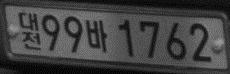1: (116, 19, 137, 57)
2: (189, 23, 211, 62)
6: (166, 21, 187, 60)
7: (139, 20, 159, 58)
9: (62, 15, 83, 52), (41, 13, 60, 52)
대전_V: (18, 11, 41, 51)
바: (85, 19, 107, 52)
